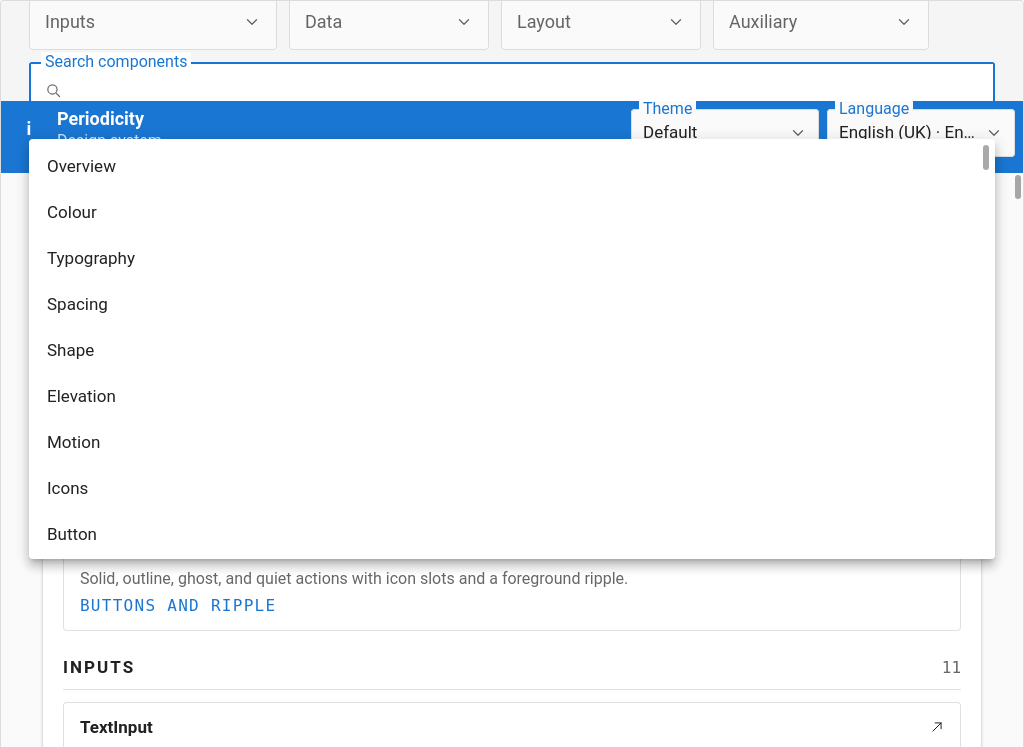
showcase component search › opens the component picked from the CompleteInput
(page scrolled)
Type "Toast" into the field named "Search components" at (524, 90), box [70, 79, 979, 101]
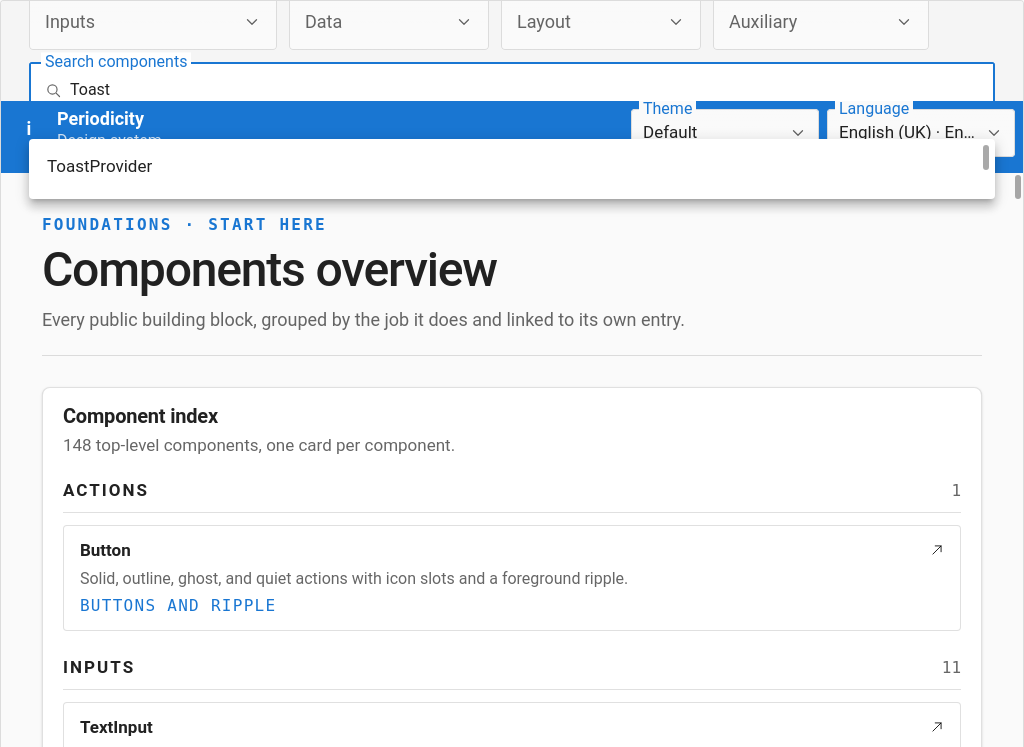
Click the option "ToastProvider" at (100, 166), box [35, 145, 989, 189]
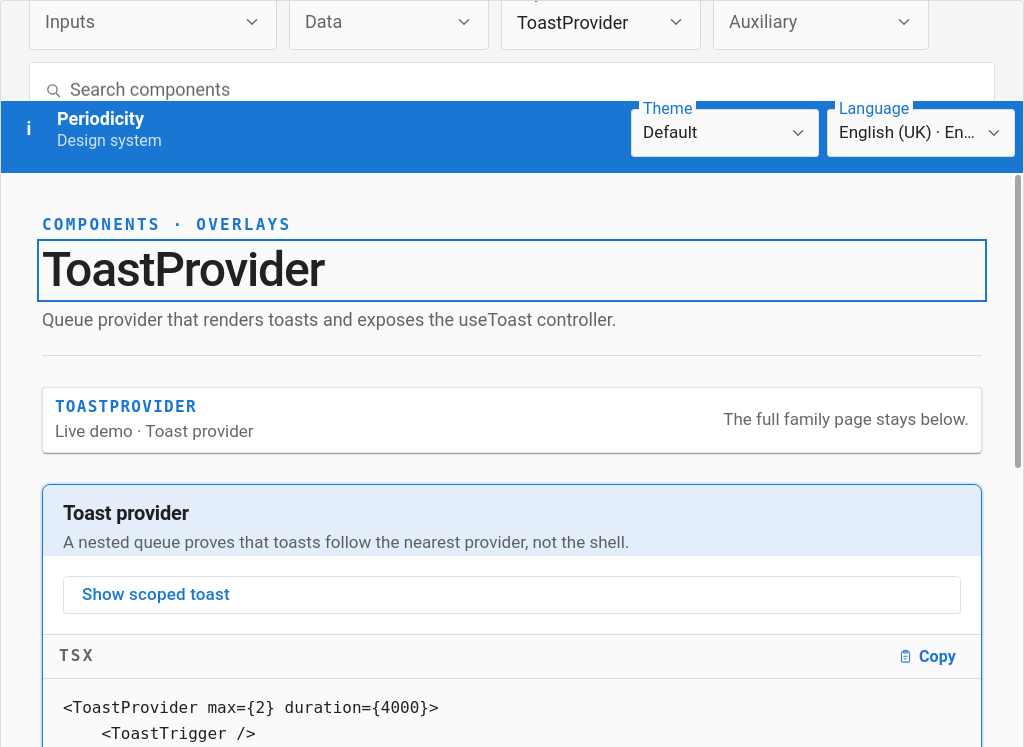
Check: the field named "Search components" is empty, box [70, 79, 979, 101]
Check: the heading "ToastProvider" is shown, box [42, 241, 324, 298]
Check: the list is gone
